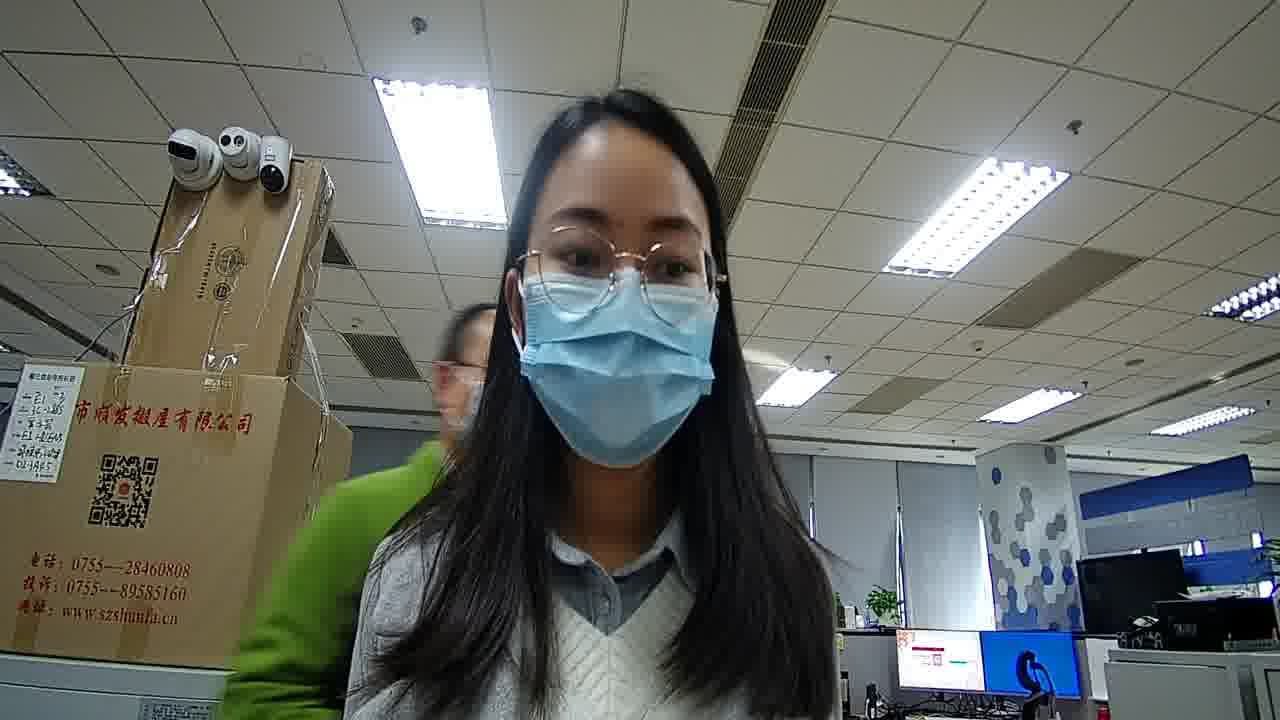face: (505, 147, 722, 468)
mask: (518, 273, 719, 470)
person: (345, 90, 846, 720)
